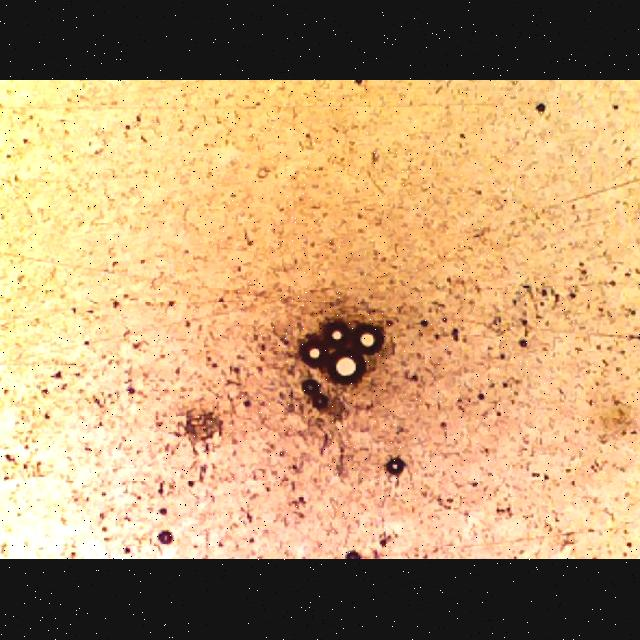microbeads: (322, 343, 368, 389), (351, 323, 387, 359), (298, 336, 328, 372)
